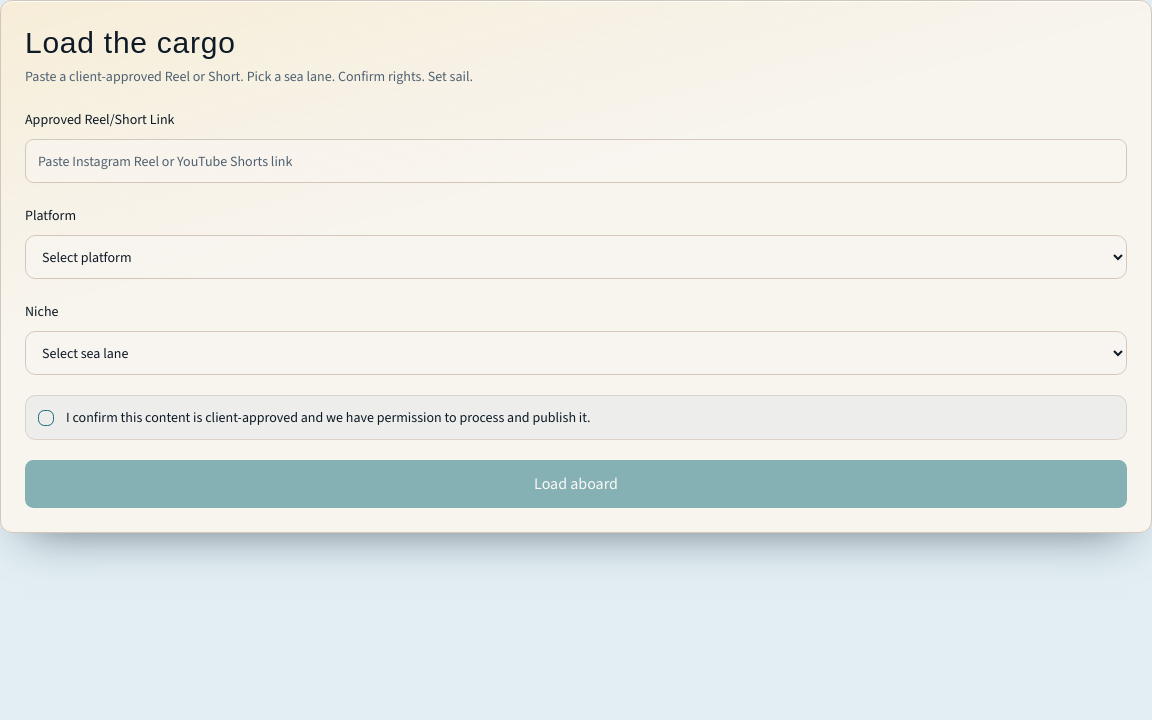
SubmitForm › shows success state with niche and queued status
Type "https://www.youtube.com/shorts/abc" into the field labelled "Approved Reel/Short Link".
click(576, 161); type("https://www.youtube.com/shorts/abc")  # box [25,139,1127,183]
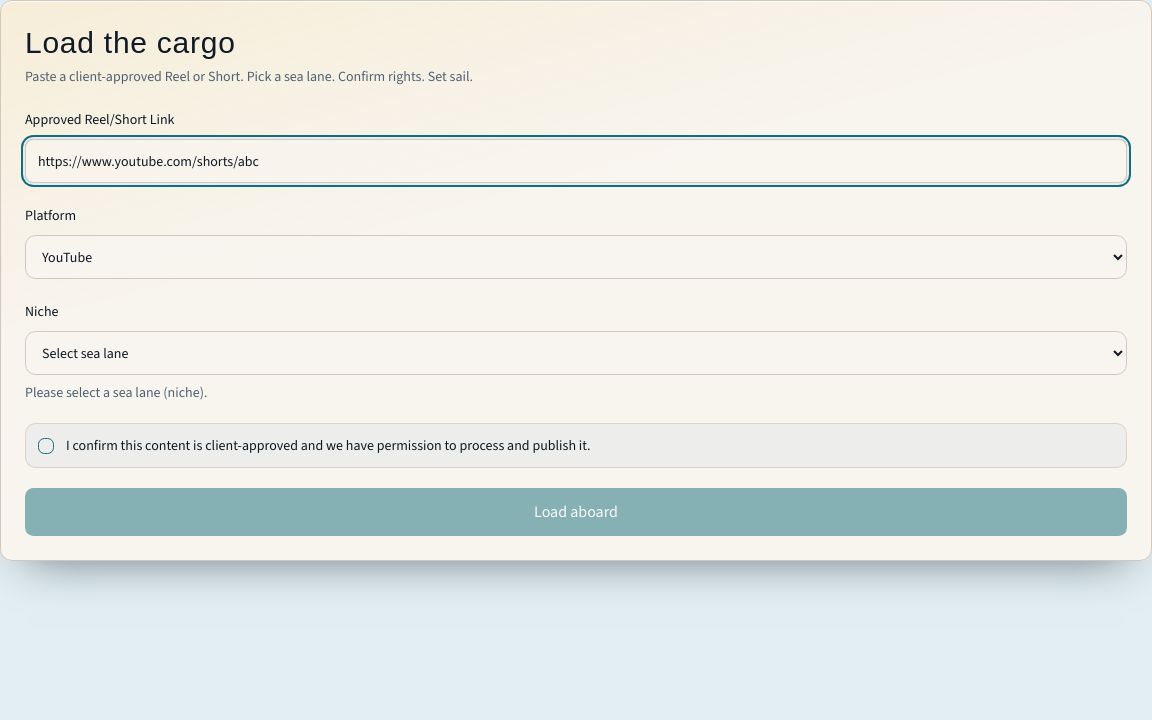
Select "Memes" in the dropdown labelled "Niche" at (576, 353), box [25,331,1127,375]
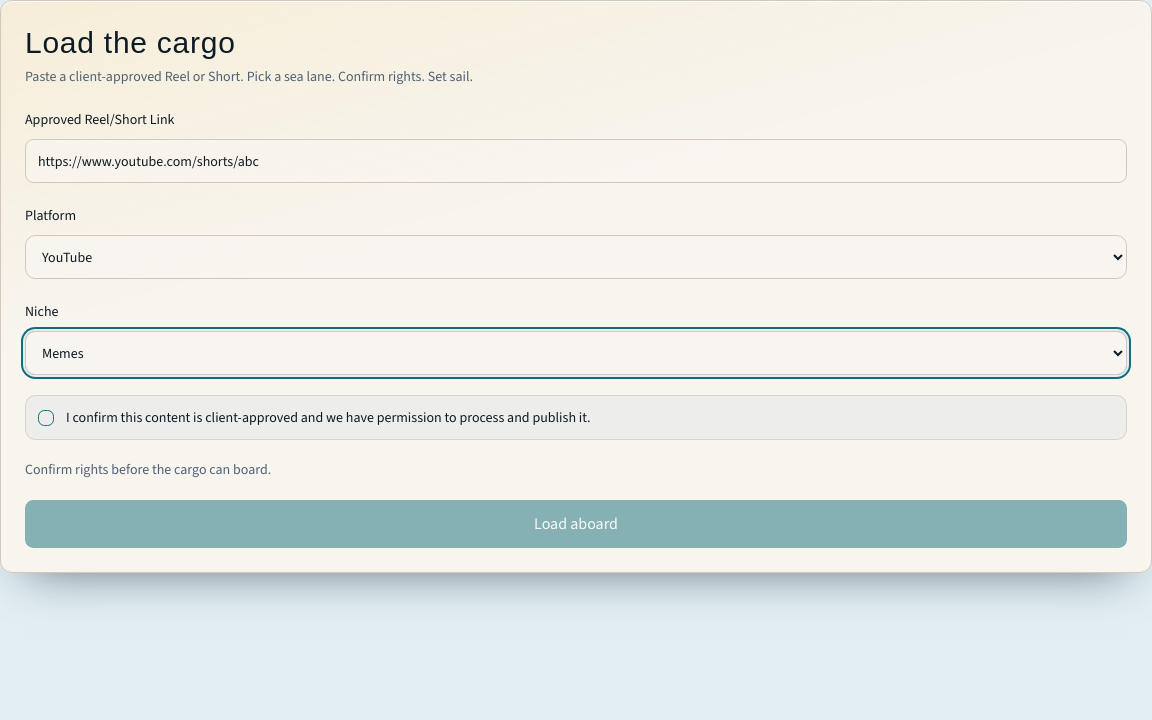
Click the checkbox named "I confirm this content is client-approved and we have permission to process and publish it.".
click(46, 418)  # box [38,410,54,426]
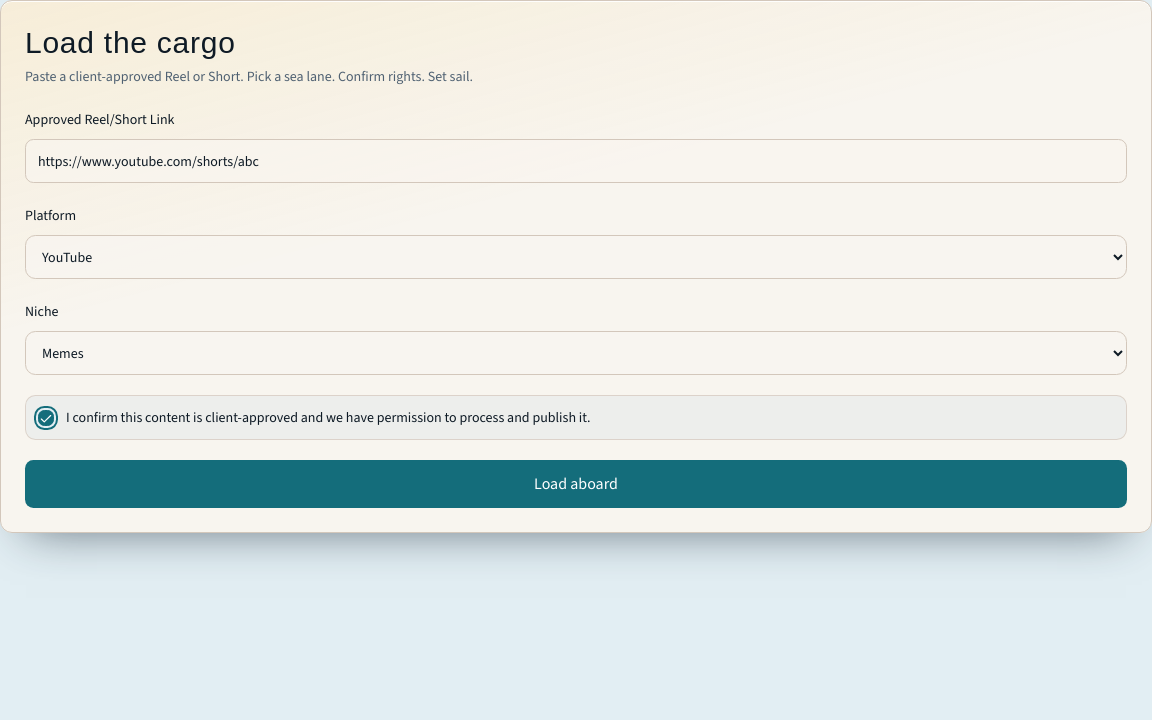
Click the button "Load aboard".
click(576, 484)  # box [25,460,1127,508]
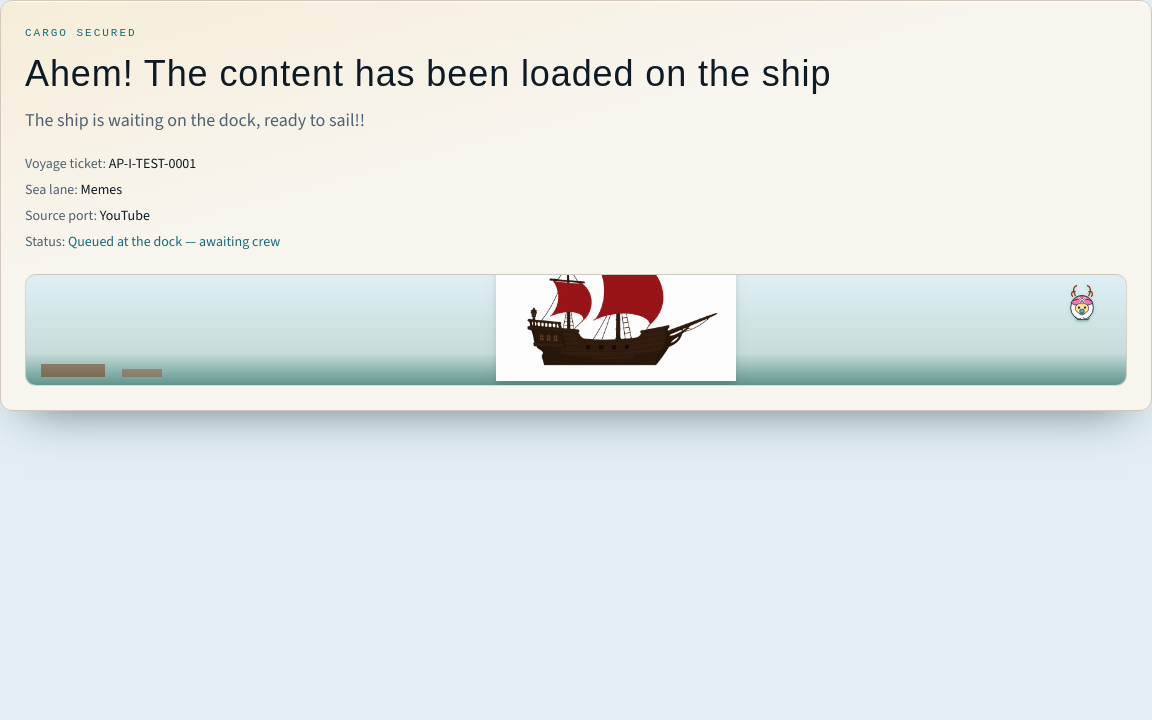
Now the heading "Ahem! The content has been loaded on the ship" is shown, box [25,52,831,94]
Now the text "The ship is waiting on the dock, ready to sail!!" is shown, box [25,108,365,132]
